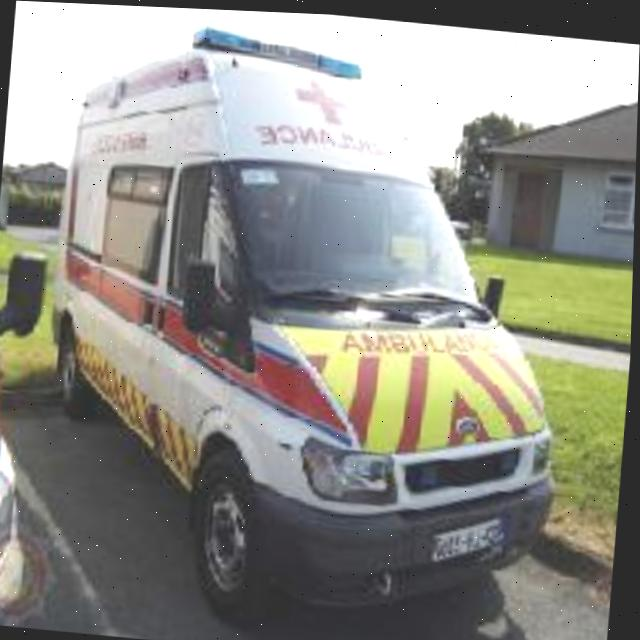emergency: (41, 31, 586, 639)
